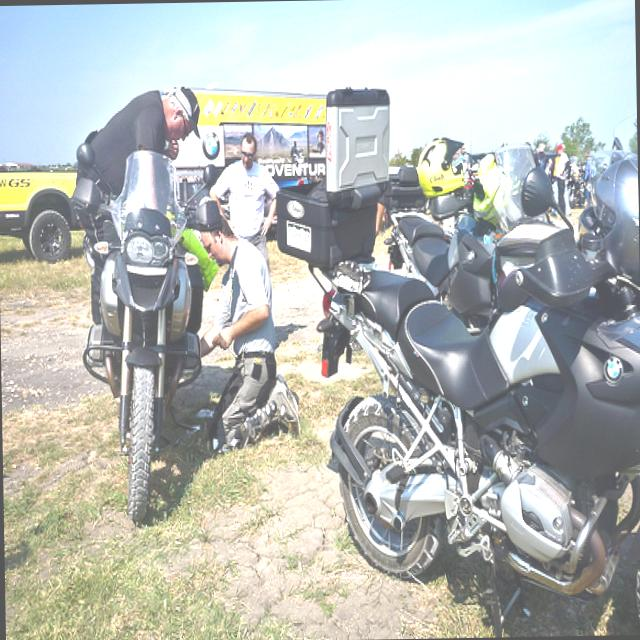Vehicle: (314, 94, 640, 640), (71, 142, 227, 524), (384, 142, 538, 336), (171, 84, 328, 190), (0, 167, 85, 264), (464, 168, 485, 203)
